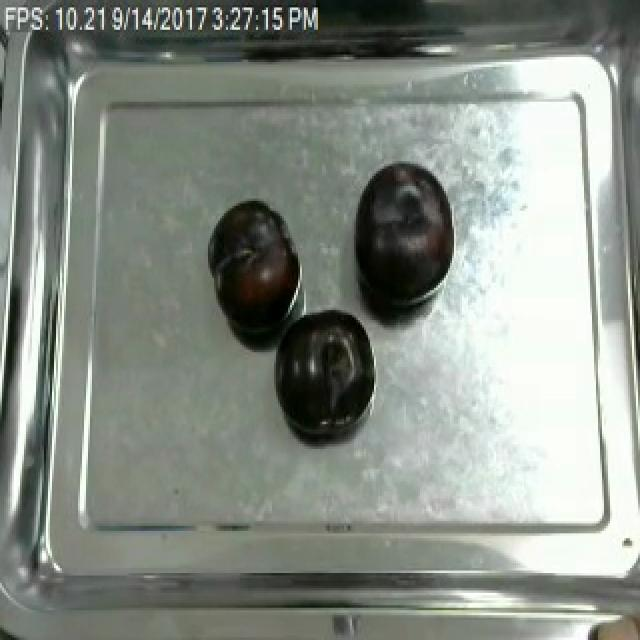Fruit: (348, 154, 458, 317), (268, 305, 374, 437), (206, 198, 302, 338), (580, 603, 640, 640)
